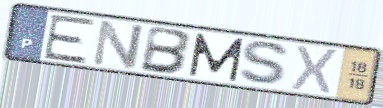B: (138, 24, 196, 76)
E: (41, 13, 98, 65)
M: (187, 31, 247, 83)
N: (89, 18, 147, 71)
S: (236, 39, 294, 88)
X: (288, 43, 341, 97)
